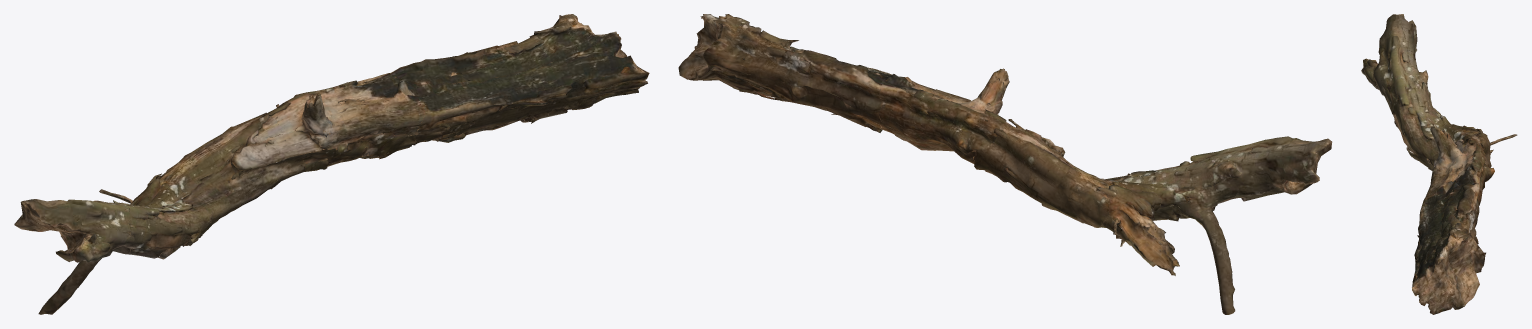
File: ph_dead_tree_trunk_02.glb
3 renders of one model, left to right at view 1: azimuth 30°, elevation 25°; view 2: azimuth 150°, elevation 25°; view 3: azimuth 270°, elevation 25°, orthographic. The views are drawn at different scales.
Parts seen in each view (by area): view 1: dead_tree_trunk_02; view 2: dead_tree_trunk_02; view 3: dead_tree_trunk_02.
Part boxes in pixels (x1,y1,x2,y2): dead_tree_trunk_02: (14, 14, 649, 314); dead_tree_trunk_02: (678, 14, 1332, 314); dead_tree_trunk_02: (1361, 14, 1517, 314).
Bounding box in the file's own units: 4.05 × 1.06 × 1.06.
1 material, 1 textured.
